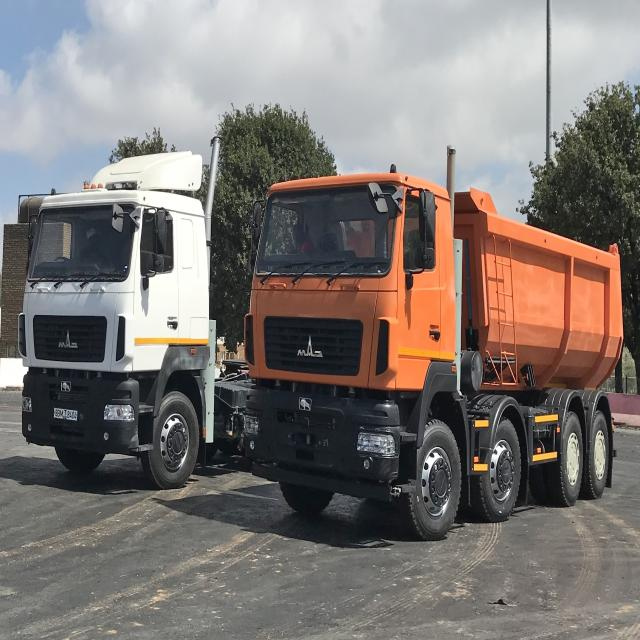Heavy Duty Truck: (242, 144, 626, 544), (15, 153, 245, 492)
